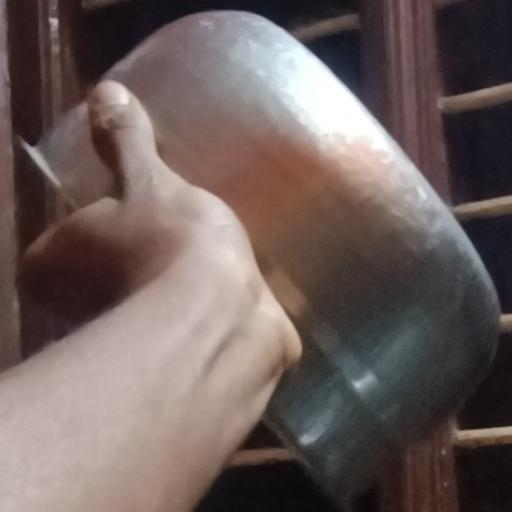vessel: (17, 9, 503, 509)
